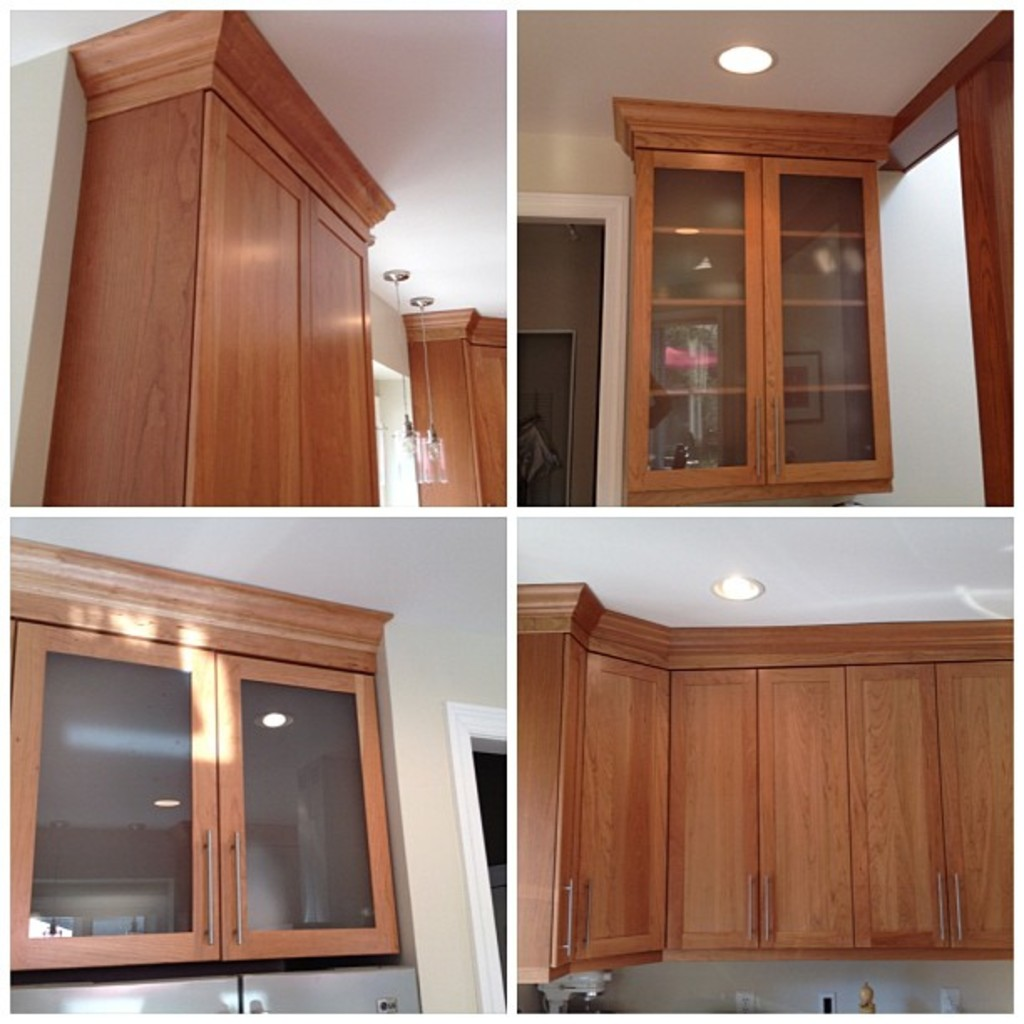cabinet door: (18, 636, 216, 956), (232, 661, 386, 943), (641, 155, 763, 488), (763, 164, 882, 466), (214, 115, 302, 501), (758, 671, 850, 946), (850, 674, 938, 944), (936, 678, 1024, 937), (670, 674, 754, 944), (586, 667, 666, 944), (306, 215, 376, 505), (566, 643, 589, 966)
handle: (221, 836, 249, 944), (198, 828, 219, 944), (564, 866, 584, 959), (767, 394, 786, 479), (750, 397, 766, 486), (739, 870, 759, 940), (580, 876, 598, 950), (948, 870, 963, 944), (761, 873, 776, 940), (934, 866, 947, 943)
